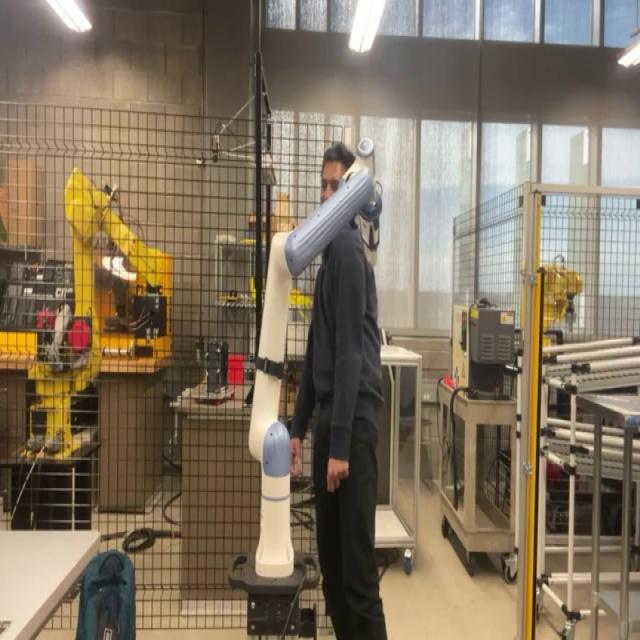human: (287, 140, 388, 639)
